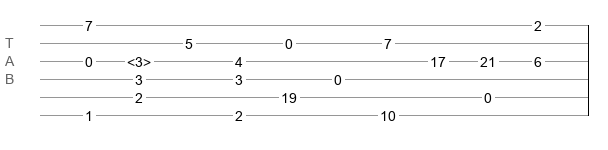0: (85, 54, 93, 64), (285, 36, 293, 46), (334, 72, 342, 82), (484, 90, 492, 100)
1: (85, 108, 93, 118)
10: (380, 108, 396, 118)
17: (430, 54, 446, 64)
19: (281, 90, 297, 100)
2: (135, 90, 143, 100), (235, 108, 243, 118), (534, 18, 542, 28)
21: (480, 54, 496, 64)
3: (135, 72, 143, 82), (235, 72, 243, 82)
4: (235, 54, 243, 64)
5: (185, 36, 193, 46)
6: (534, 54, 542, 64)
7: (85, 18, 93, 28), (384, 36, 392, 46)
harmonic: (127, 54, 151, 64)
